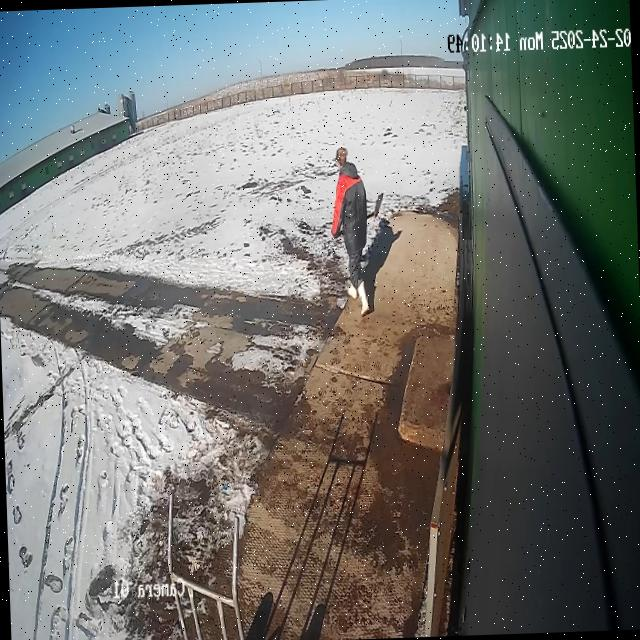Red uniform: (327, 144, 374, 318)
